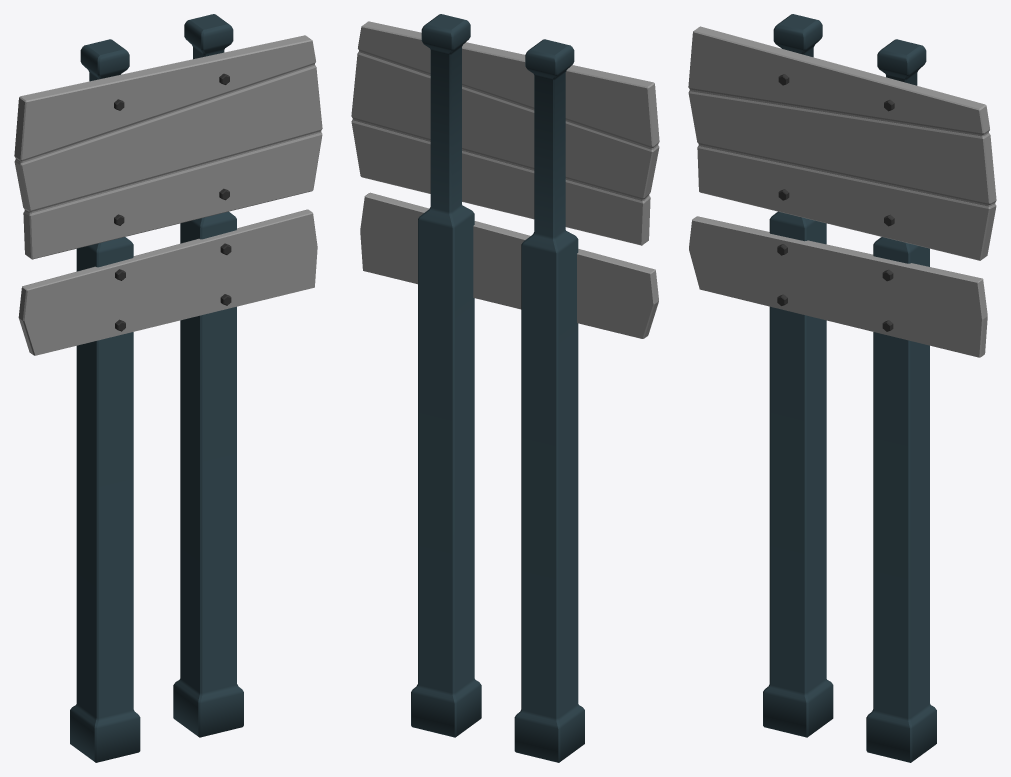
The model's file is props_77.glb.
3 views of the same model, side by side, from view 1: azimuth 30°, elevation 25°; view 2: azimuth 150°, elevation 25°; view 3: azimuth 330°, elevation 25° (orthographic).
Visible parts, largest first — view 1: props_77; view 2: props_77; view 3: props_77.
Boxes of the visible parts, left/top/right/bottom form: props_77: left=14, top=14, right=322, bottom=762; props_77: left=351, top=14, right=659, bottom=762; props_77: left=688, top=14, right=996, bottom=762.
Size of the model in its own units: 1.17 by 2.6 by 0.204.
1 material, 1 textured.
